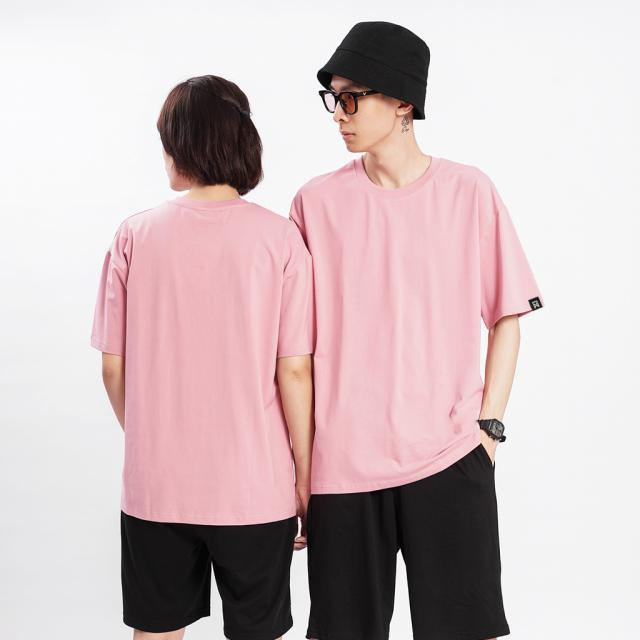Shirt: (286, 148, 555, 498), (90, 192, 322, 530)
